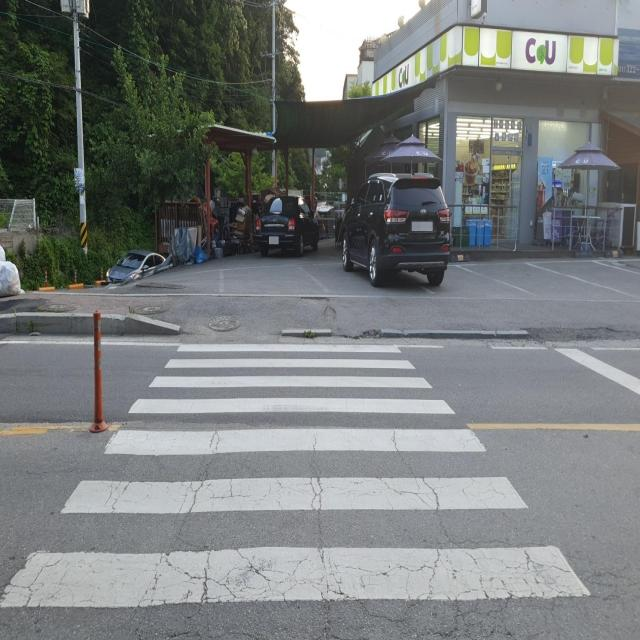횡단보도: (0, 336, 596, 614)
